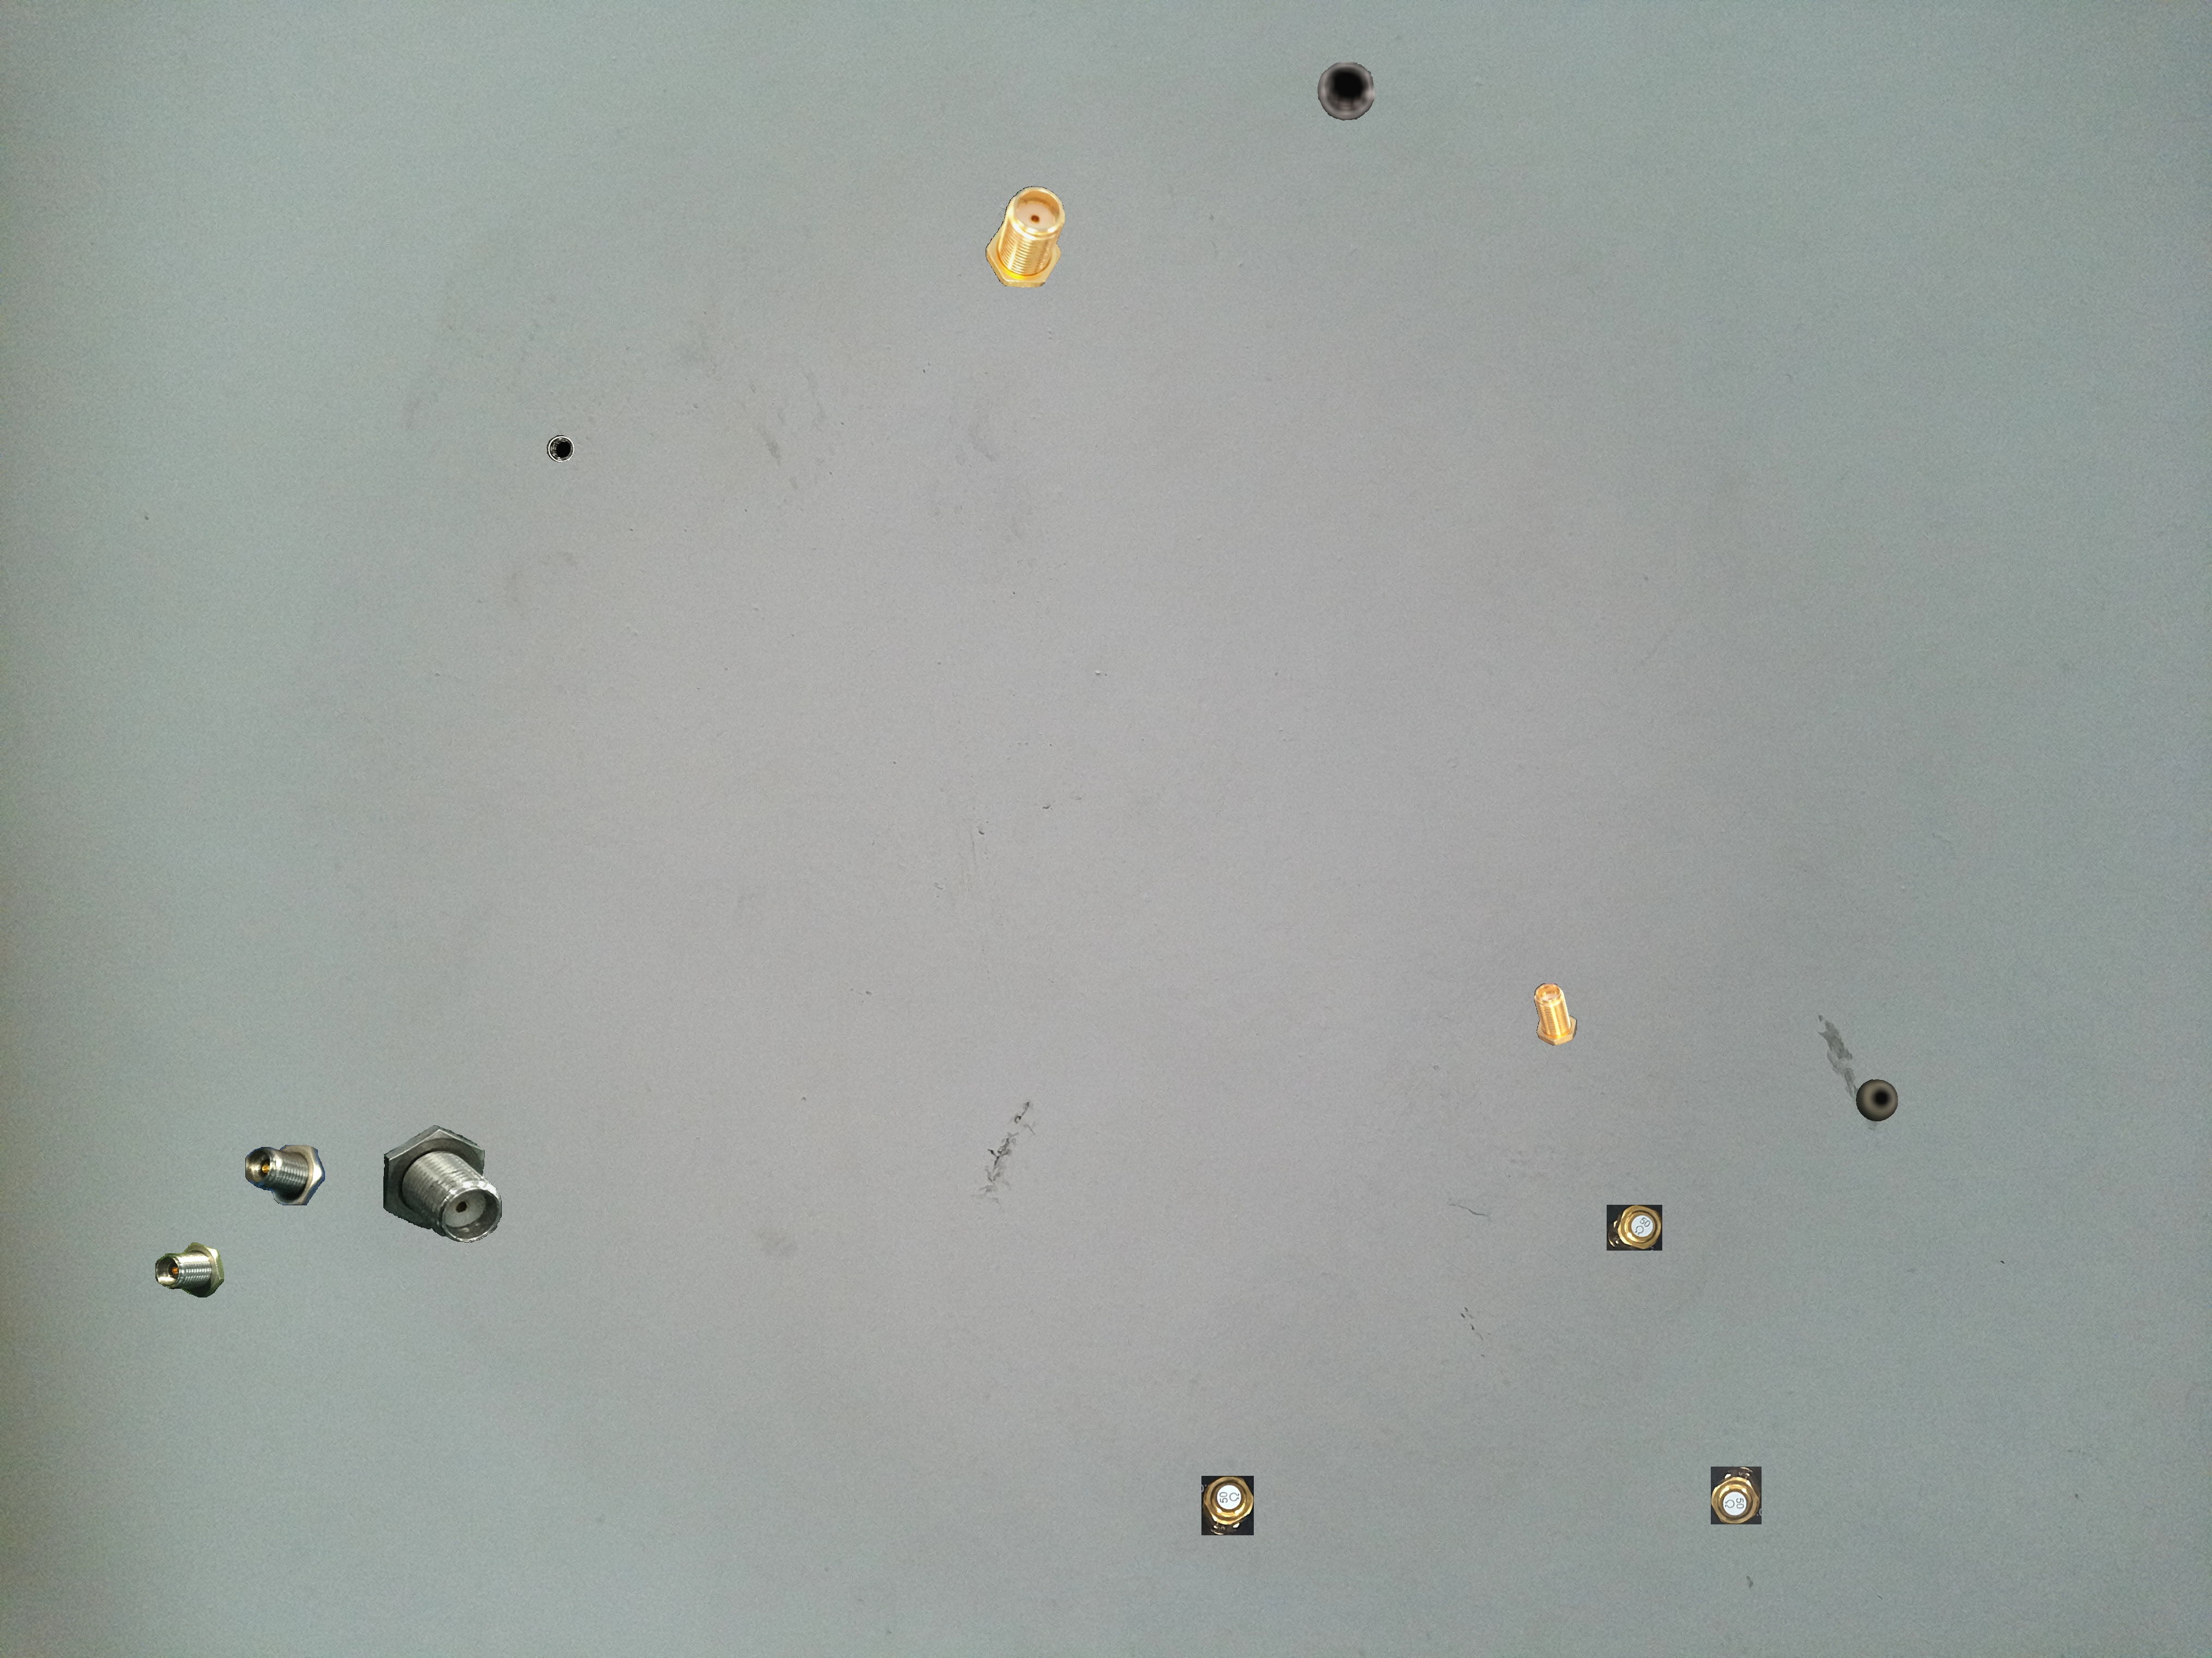Cgoldcap: (1201, 1476, 1253, 1535), (1711, 1467, 1761, 1524), (1607, 1205, 1662, 1250)
Cpin_wNut: (383, 1125, 501, 1242), (985, 186, 1065, 287), (245, 1145, 324, 1205), (155, 1242, 224, 1297), (1534, 983, 1577, 1045)
